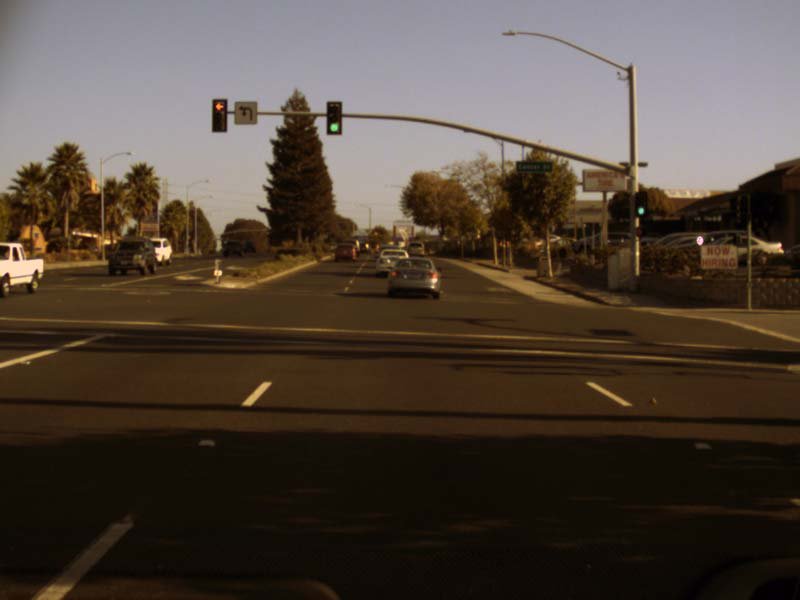Green: (326, 100, 340, 134), (634, 192, 646, 216)
Red: (210, 98, 226, 132)
